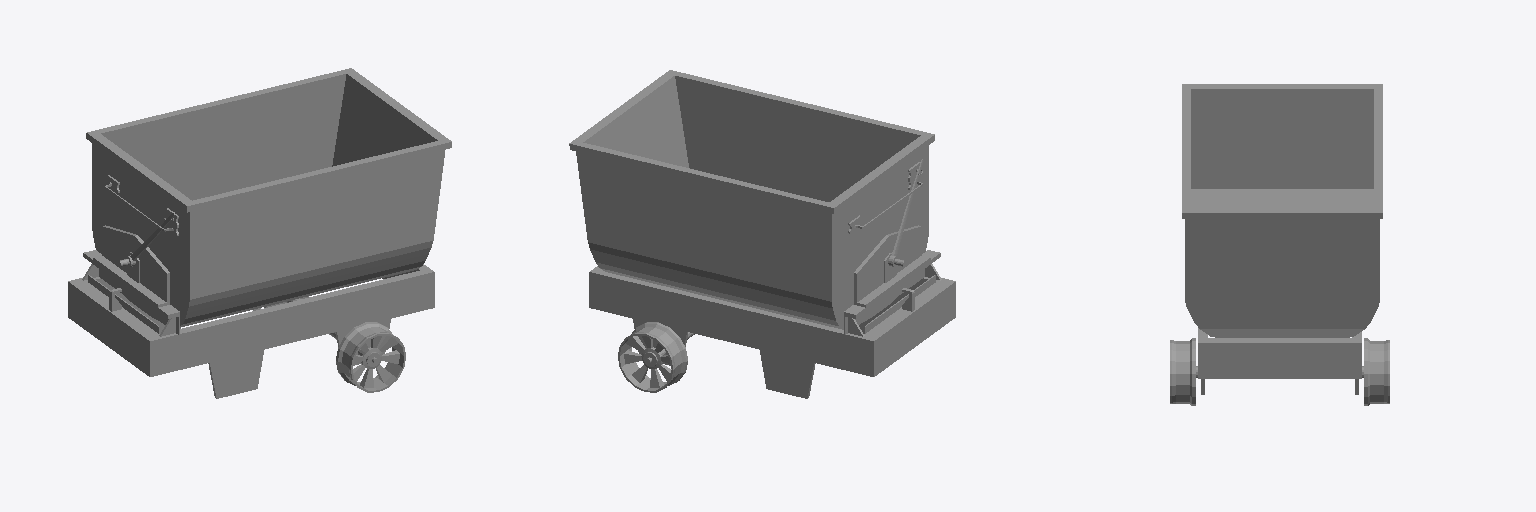
File: Cart_Wheel_Small.obj
3 renders of one model, left to right at view 1: azimuth 30°, elevation 25°; view 2: azimuth 150°, elevation 25°; view 3: azimuth 270°, elevation 25°, orthographic.
Visible parts, largest first — view 1: Cart_Small, Cart_Undercarriage_Small, Cart_Wheel_Small; view 2: Cart_Small, Cart_Undercarriage_Small, Cart_Wheel_Small; view 3: Cart_Small, Cart_Undercarriage_Small, Cart_Wheel_Small.
Boxes of the visible parts, x1=… form: Cart_Small: x1=86, y1=68, x2=451, y2=327; Cart_Undercarriage_Small: x1=68, y1=212, x2=434, y2=398; Cart_Wheel_Small: x1=253, y1=296, x2=405, y2=392; Cart_Small: x1=569, y1=70, x2=934, y2=329; Cart_Undercarriage_Small: x1=589, y1=159, x2=955, y2=398; Cart_Wheel_Small: x1=618, y1=322, x2=694, y2=392; Cart_Small: x1=1182, y1=84, x2=1382, y2=337; Cart_Undercarriage_Small: x1=1198, y1=328, x2=1361, y2=394; Cart_Wheel_Small: x1=1170, y1=338, x2=1389, y2=405.
Bounding box in the file's own units: 1.22 × 0.9042 × 0.789.